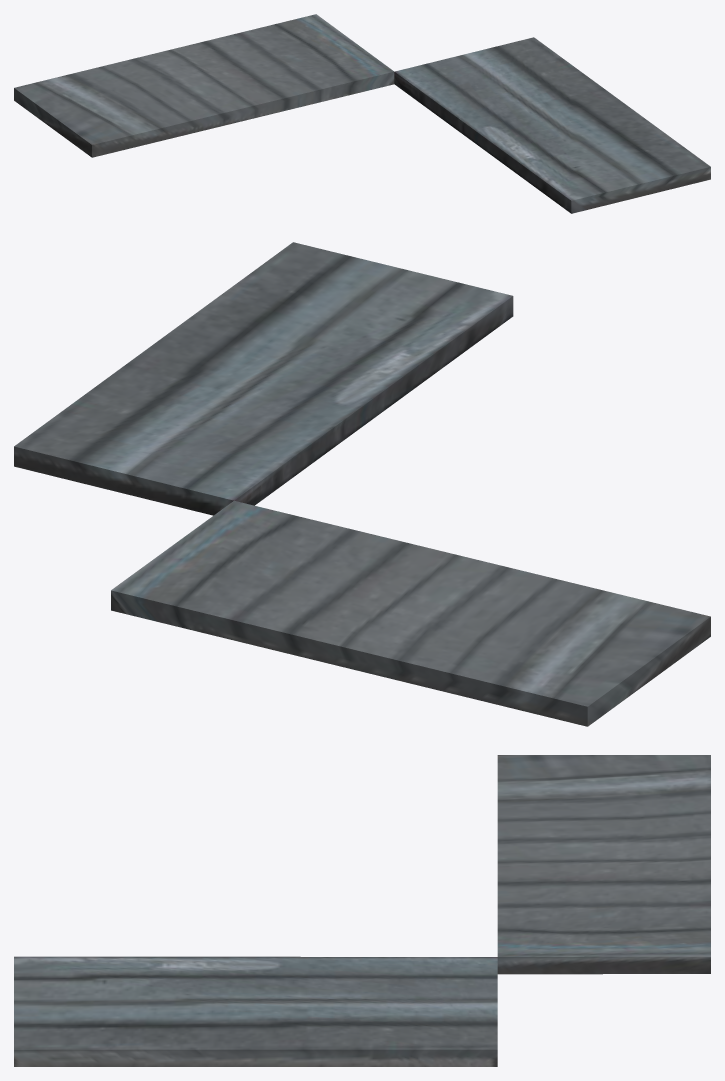
3 views of the same model, one above another, from view 1: azimuth 30°, elevation 25°; view 2: azimuth 150°, elevation 25°; view 3: azimuth 270°, elevation 25° (orthographic). The views are drawn at different scales.
Parts seen in each view (by area): view 1: Rooftop Modular Inner Corner; view 2: Rooftop Modular Inner Corner; view 3: Rooftop Modular Inner Corner.
Boxes of the visible parts, box(x1,y1,x2,y2) form: Rooftop Modular Inner Corner: box(14, 14, 710, 213); Rooftop Modular Inner Corner: box(14, 242, 710, 726); Rooftop Modular Inner Corner: box(14, 755, 710, 1066).
Size of what is drawn, in the model's own units: 4.09 by 0.1153 by 4.09.
1 material, 1 textured.
